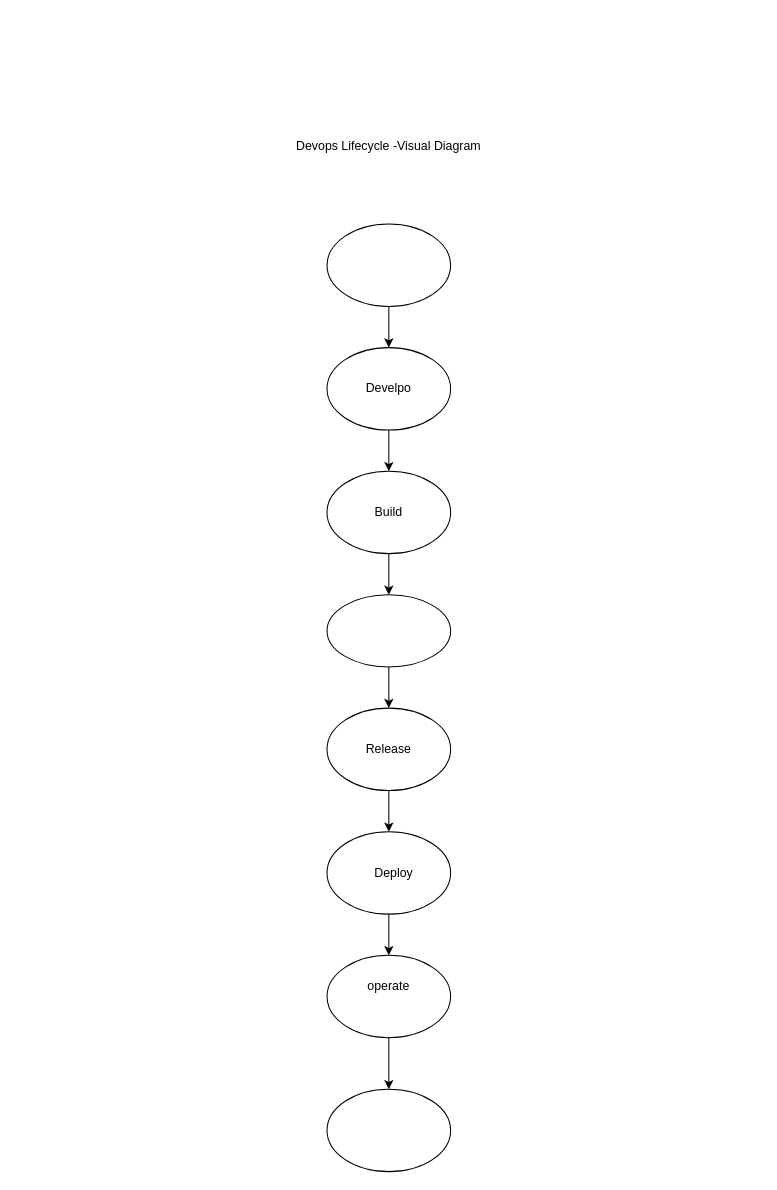
Image size: 777x1190. Some labels were removed from this diagram. The centre of each missing label's shape, as x and y in pixels:
"Monitor" goes at point 388,1130.
"plane" goes at point 388,264.
"Text" goes at point 388,630.
